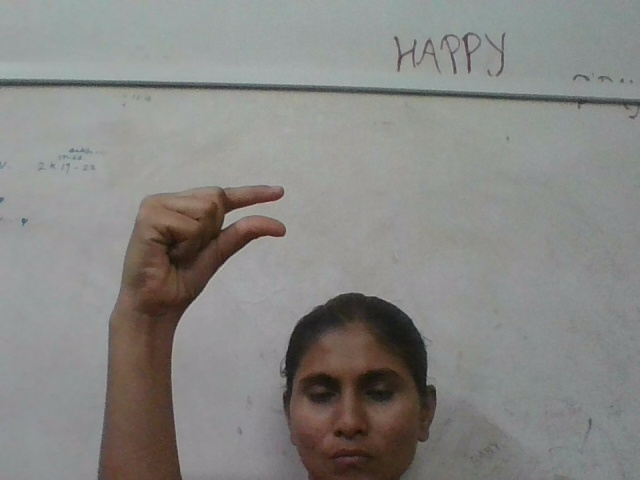No: (107, 181, 295, 307)
